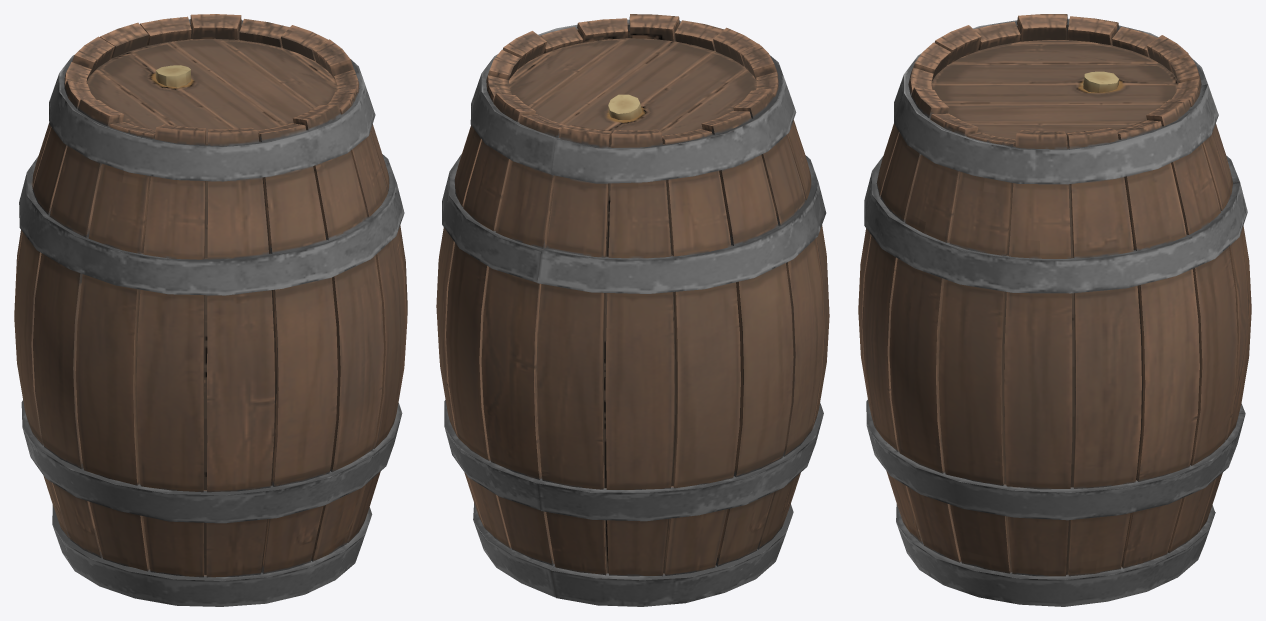
The model's file is Barrel_2.fbx.
The picture shows the model from 3 angles, left to right: view 1: azimuth 30°, elevation 25°; view 2: azimuth 150°, elevation 25°; view 3: azimuth 270°, elevation 25°; orthographic projection.
Parts seen in each view (by area): view 1: Barrel_2_LOD0; view 2: Barrel_2_LOD0; view 3: Barrel_2_LOD0.
Boxes of the visible parts, x1=… form: Barrel_2_LOD0: x1=14, y1=14, x2=407, y2=606; Barrel_2_LOD0: x1=436, y1=14, x2=829, y2=606; Barrel_2_LOD0: x1=858, y1=14, x2=1251, y2=606.
Size of what is drawn, in the model's own units: 75.33 by 100 by 75.6.
